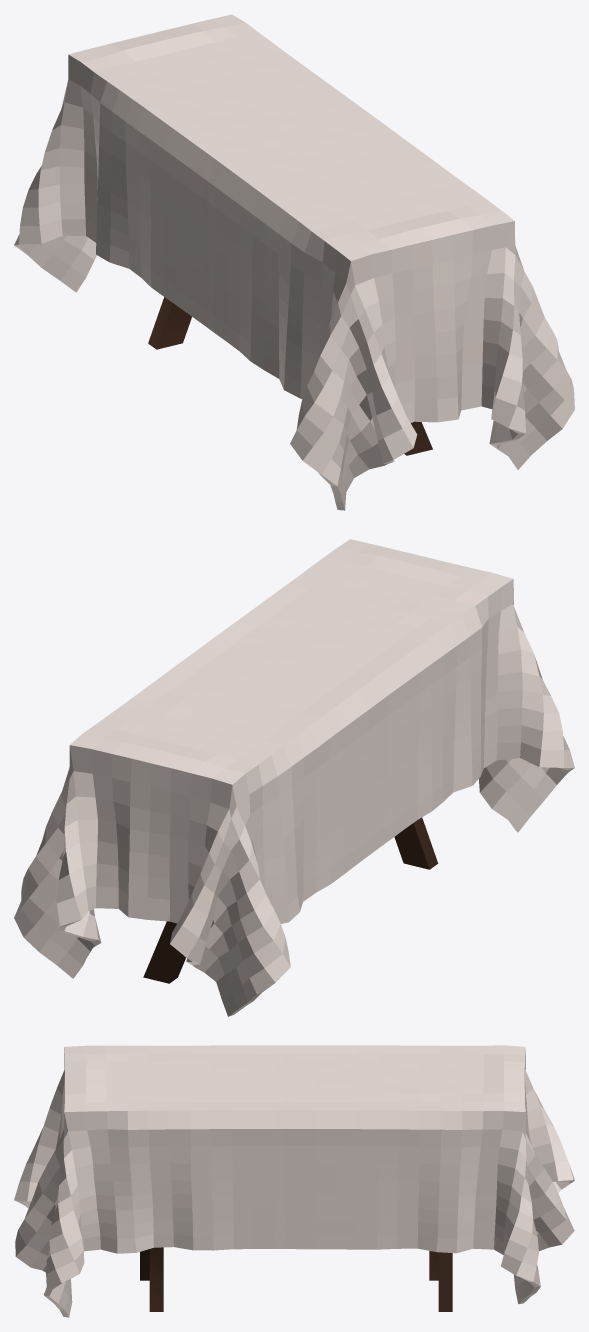
File: Table.fbx
3 views of the same model, one above another, from view 1: azimuth 30°, elevation 25°; view 2: azimuth 150°, elevation 25°; view 3: azimuth 270°, elevation 25° (orthographic). The views are drawn at different scales.
Parts seen in each view (by area): view 1: Plane.001; view 2: Plane.001; view 3: Plane.001.
Part boxes in pixels (x1,y1,x2,y2): Plane.001: [14, 14, 574, 510]; Plane.001: [14, 539, 574, 1016]; Plane.001: [14, 1045, 574, 1317].
Bounding box in the file's own units: 345 × 312 × 740.
